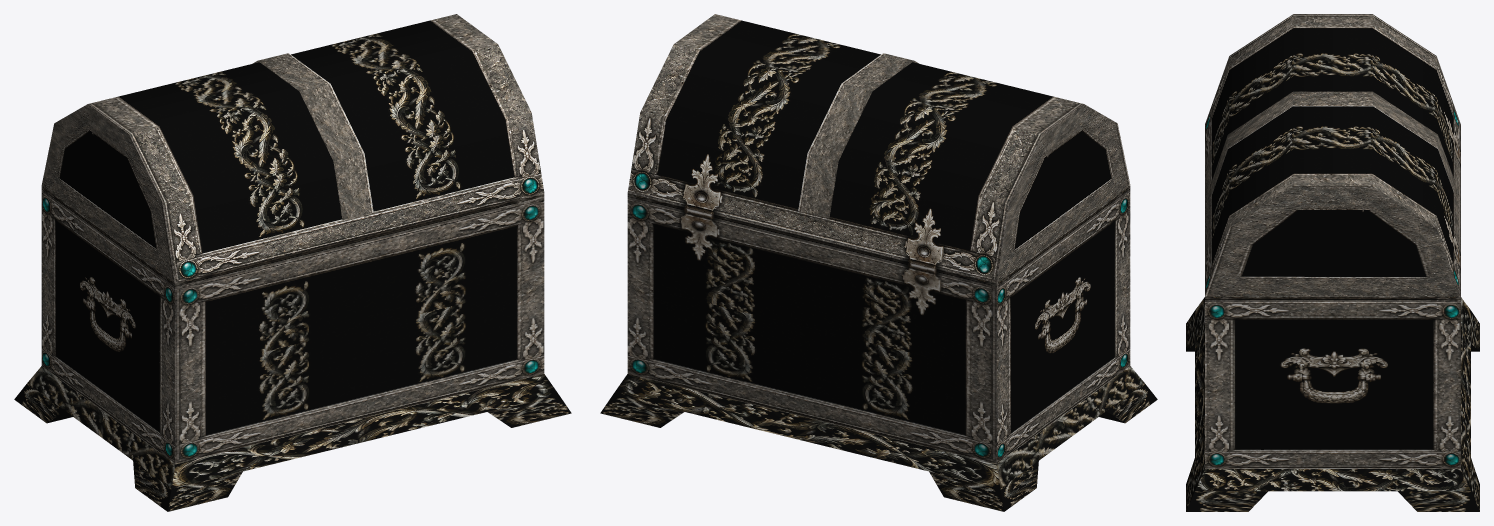
Rendered from mm9_deco_blackchest.glb.
3 renders of one model, left to right at view 1: azimuth 30°, elevation 25°; view 2: azimuth 150°, elevation 25°; view 3: azimuth 270°, elevation 25°, orthographic. The views are drawn at different scales.
Parts seen in each view (by area): view 1: Blackchest; view 2: Blackchest; view 3: Blackchest.
Boxes of the visible parts, x1,y1,x2,y2 form: Blackchest: (14,14,571,511); Blackchest: (600,14,1157,511); Blackchest: (1186,14,1479,511).
Bounding box in the file's own units: 1.1 × 0.8662 × 0.722.
Materials: 1 (1 with a texture image).
